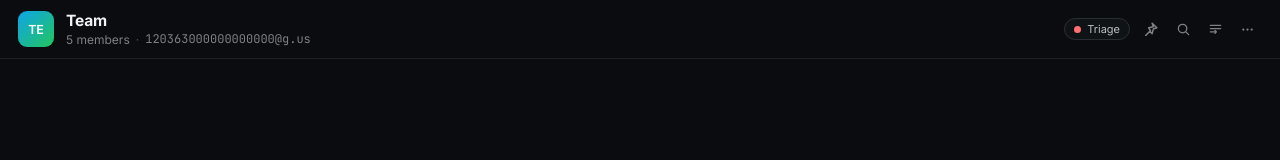
ChatTopbar — overflow menu › clicking the More button opens a menu with Rename chat entry
Click the button named "more actions" at x=1247, y=29, box [1232,14,1262,44]
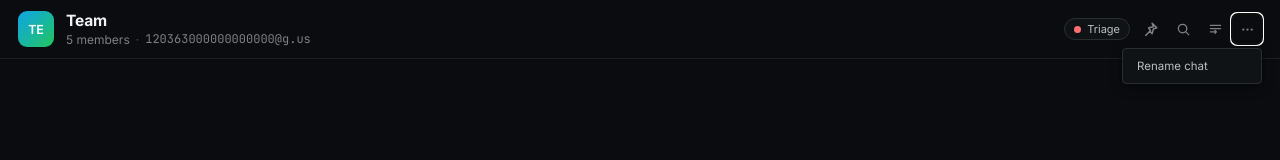
Now the menu item "Rename chat" is shown, box [1127,53,1257,79]
